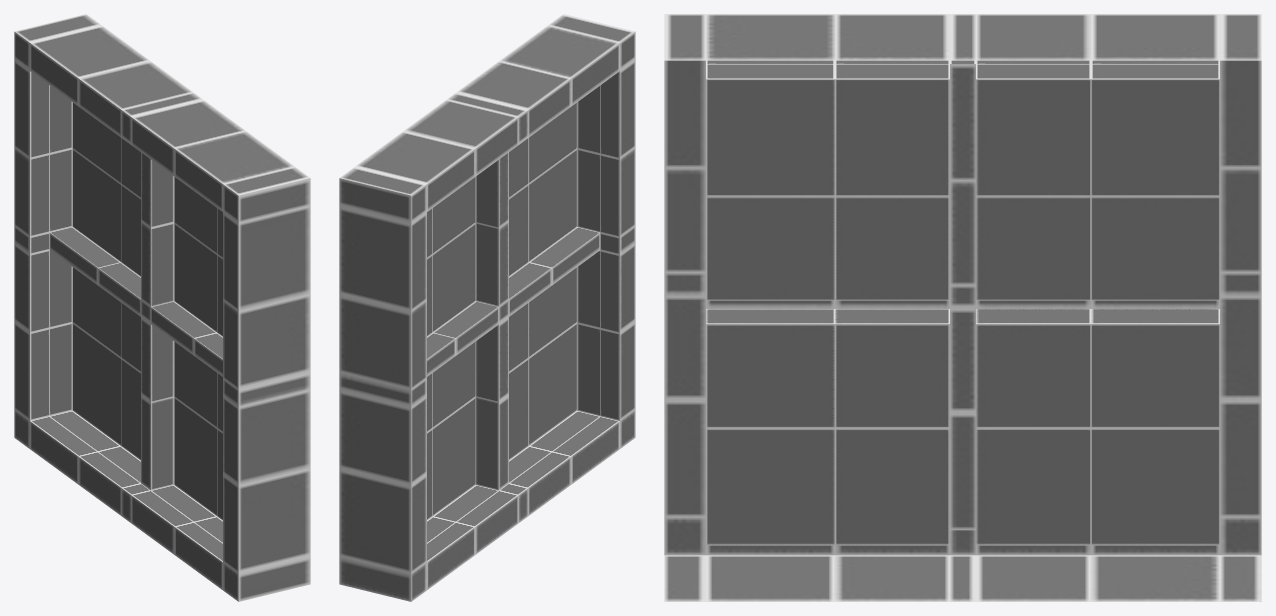
The model's file is WindowUnwrapped.fbx.
3 renders of one model, left to right at view 1: azimuth 30°, elevation 25°; view 2: azimuth 150°, elevation 25°; view 3: azimuth 270°, elevation 25°, orthographic. The views are drawn at different scales.
Parts seen in each view (by area): view 1: Cube; view 2: Cube; view 3: Cube.
Boxes of the visible parts, x1,y1,x2,y2 form: Cube: [14, 14, 310, 601]; Cube: [339, 14, 635, 601]; Cube: [664, 14, 1261, 601].
Size of the model in its own units: 37 by 200 by 200.
1 material, 1 textured.
